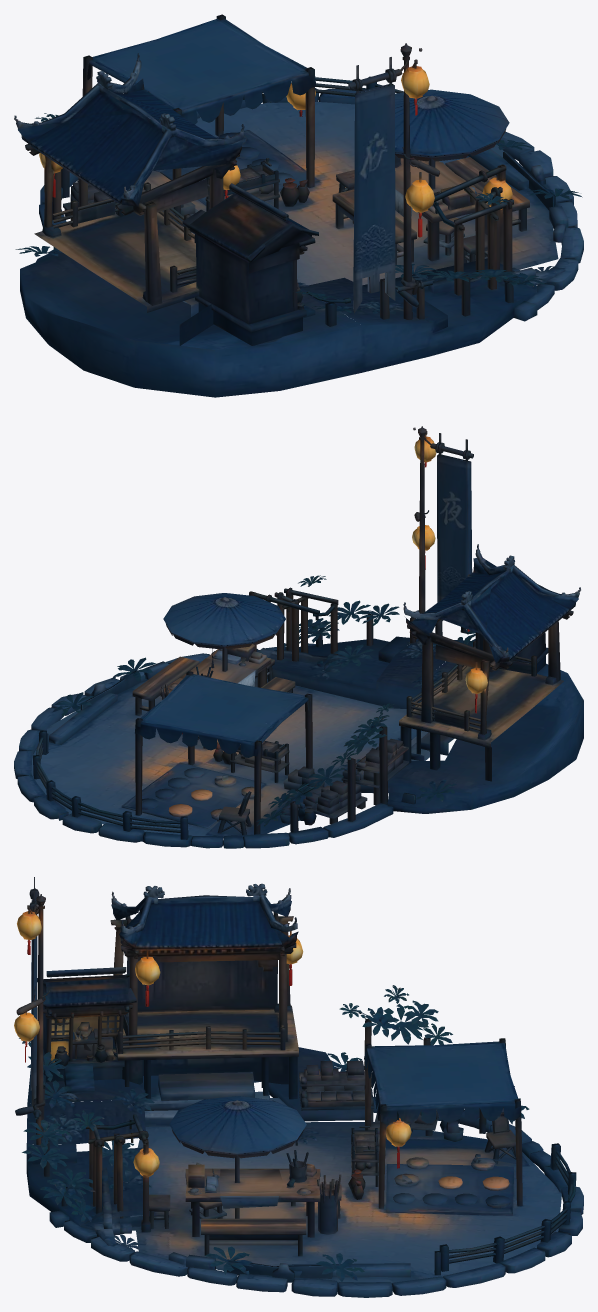
Rendered from evening.glb.
3 views of the same model, one above another, from view 1: azimuth 30°, elevation 25°; view 2: azimuth 150°, elevation 25°; view 3: azimuth 270°, elevation 25° (orthographic). The views are drawn at different scales.
Visible parts, largest first — view 1: d3d95ab1_72ef_4c8a_ac2f_0c70d49a0367; view 2: d3d95ab1_72ef_4c8a_ac2f_0c70d49a0367; view 3: d3d95ab1_72ef_4c8a_ac2f_0c70d49a0367.
Part boxes in pixels (<box>): d3d95ab1_72ef_4c8a_ac2f_0c70d49a0367: <box>14,14,583,397</box>; d3d95ab1_72ef_4c8a_ac2f_0c70d49a0367: <box>14,426,583,848</box>; d3d95ab1_72ef_4c8a_ac2f_0c70d49a0367: <box>14,877,583,1297</box>.
Size of the model in its own units: 0.9956 by 0.5376 by 0.9995.
1 material, 1 textured.
